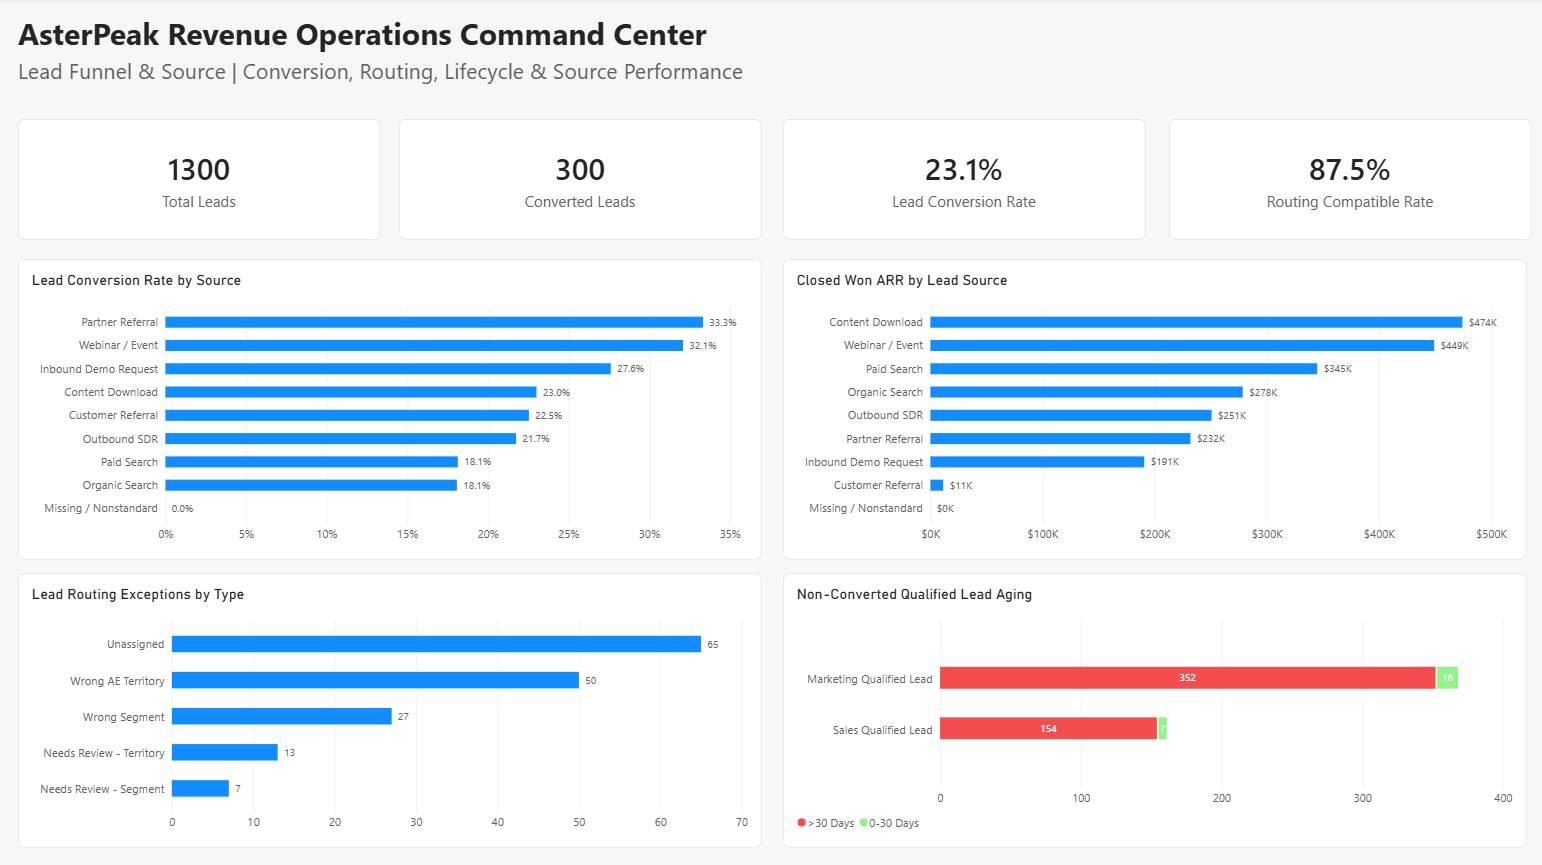

What the dashboard file says about the page in this screenshot:
{"tool":"powerbi","page":{"name":"Lead Funnel & Source","canvas":[1920,1080],"ordinal":3},"visuals":[{"type":"textbox","title":"AsterPeak Revenue Operations Command Center","box":[24.4,19.2,1156.9,130.7],"z":0},{"type":"card","fields":{"Values":["_Measures.Total Leads"]},"box":[24.4,149.8,449.5,149.8],"z":1000},{"type":"card","fields":{"Values":["_Measures.Converted Leads"]},"box":[498.3,149.8,449.5,149.8],"z":2000},{"type":"card","fields":{"Values":["_Measures.Lead Conversion Rate"]},"box":[973.9,149.8,449.5,149.8],"z":3000},{"type":"card","fields":{"Values":["_Measures.Routing Compatible Rate"]},"box":[1453.1,149.8,449.5,149.8],"z":4000},{"type":"clusteredBarChart","title":"Lead Conversion Rate by Source","fields":{"Category":["Leads.Lead Source Display"],"Y":["_Measures.Lead Conversion Rate"]},"box":[24.4,324.1,923.4,372.8],"z":5000},{"type":"clusteredBarChart","title":"Closed Won ARR by Lead Source","fields":{"Category":["Leads.Lead Source Display"],"Y":["_Measures.Closed Won ARR by Lead Source"]},"box":[973.9,324.1,923.4,372.8],"z":6000},{"type":"clusteredBarChart","title":"Lead Routing Exceptions by Type","fields":{"Category":["Leads.Routing Status"],"Y":["_Measures.Total Leads"]},"box":[24.4,714.3,923.4,341.5],"z":7000},{"type":"barChart","title":"Non-Converted Qualified Lead Aging","fields":{"Category":["Leads.lifecycle_stage"],"Series":["Leads.Qualified Lead Aging Status"],"Y":["_Measures.Total Leads"]},"box":[973.9,714.3,923,341],"z":8000}]}

Visuals, with their boxes in screenshot pixels (x1, y1, x2, y2), scaled from the page's 1920x1080 canvas onto the 1542x865 screenshot:
"AsterPeak Revenue Operations Command Center" textbox: (left=20, top=15, right=949, bottom=120)
card - _Measures.Total Leads: (left=20, top=120, right=381, bottom=240)
card - _Measures.Converted Leads: (left=400, top=120, right=761, bottom=240)
card - _Measures.Lead Conversion Rate: (left=782, top=120, right=1143, bottom=240)
card - _Measures.Routing Compatible Rate: (left=1167, top=120, right=1528, bottom=240)
"Lead Conversion Rate by Source" clusteredBarChart: (left=20, top=260, right=761, bottom=558)
"Closed Won ARR by Lead Source" clusteredBarChart: (left=782, top=260, right=1524, bottom=558)
"Lead Routing Exceptions by Type" clusteredBarChart: (left=20, top=572, right=761, bottom=846)
"Non-Converted Qualified Lead Aging" barChart: (left=782, top=572, right=1523, bottom=845)
